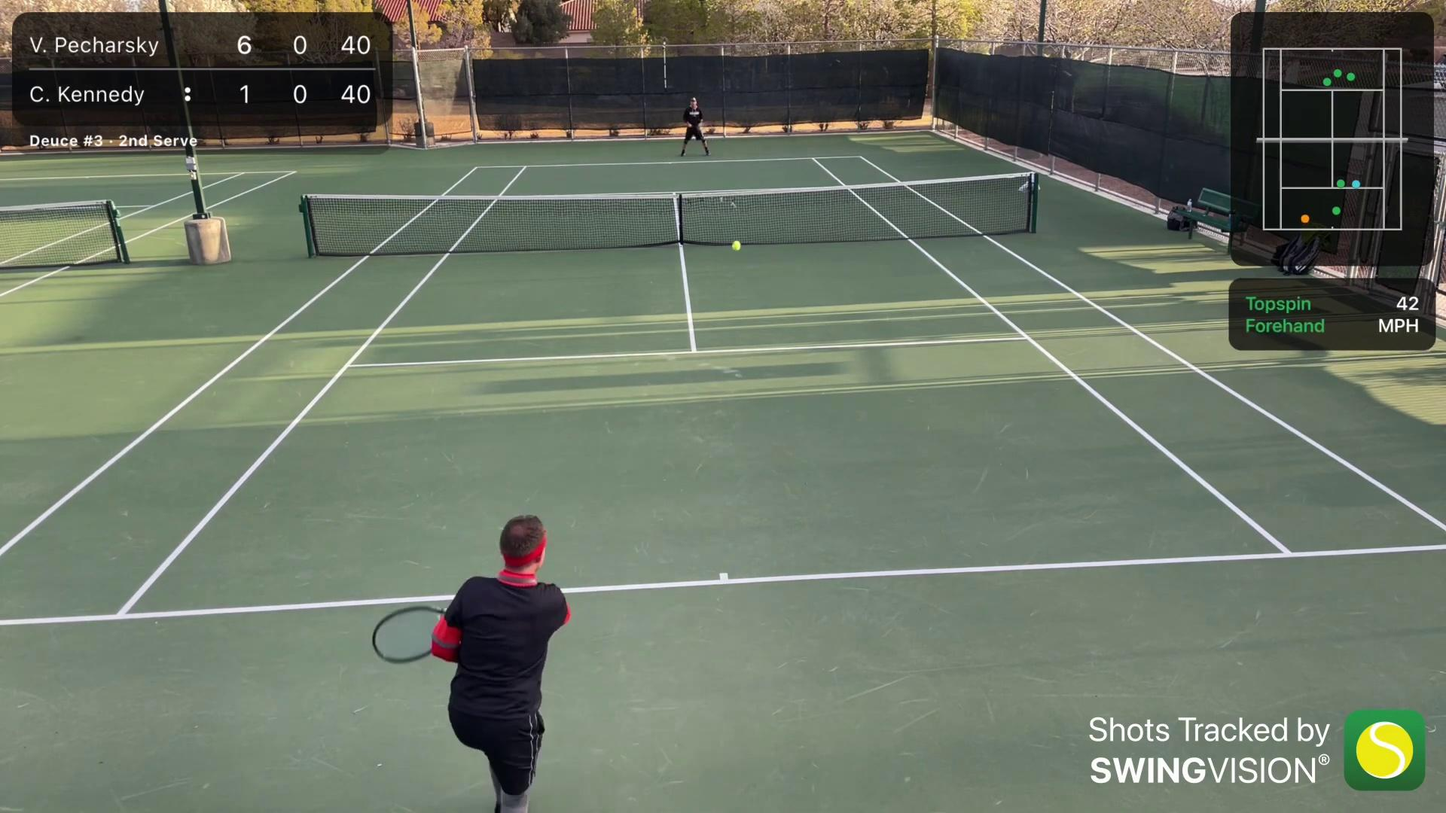ball: (728, 240, 745, 252)
